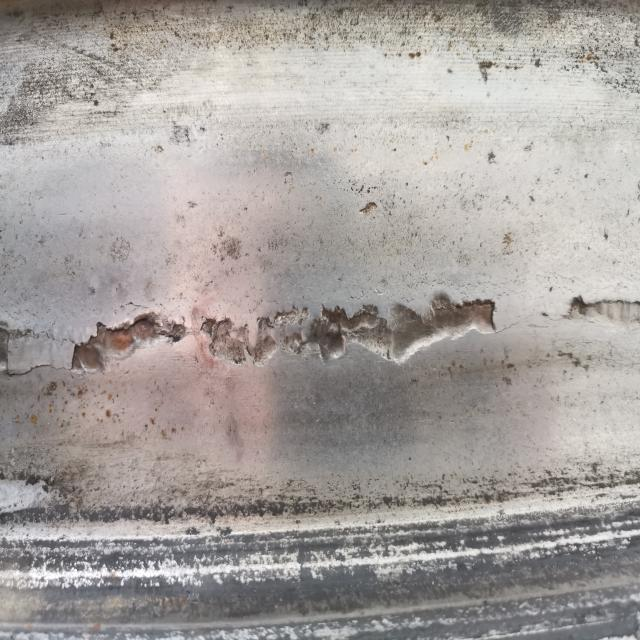Contact_Fatigue_Cracks: (7, 323, 64, 387), (502, 312, 535, 336)
Peeling: (201, 293, 500, 364), (71, 311, 188, 377), (563, 295, 640, 326)
